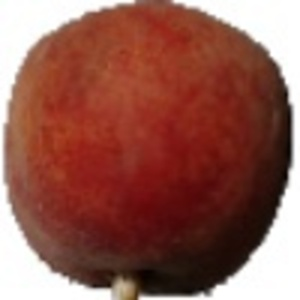pêssego: (2, 1, 293, 300)
